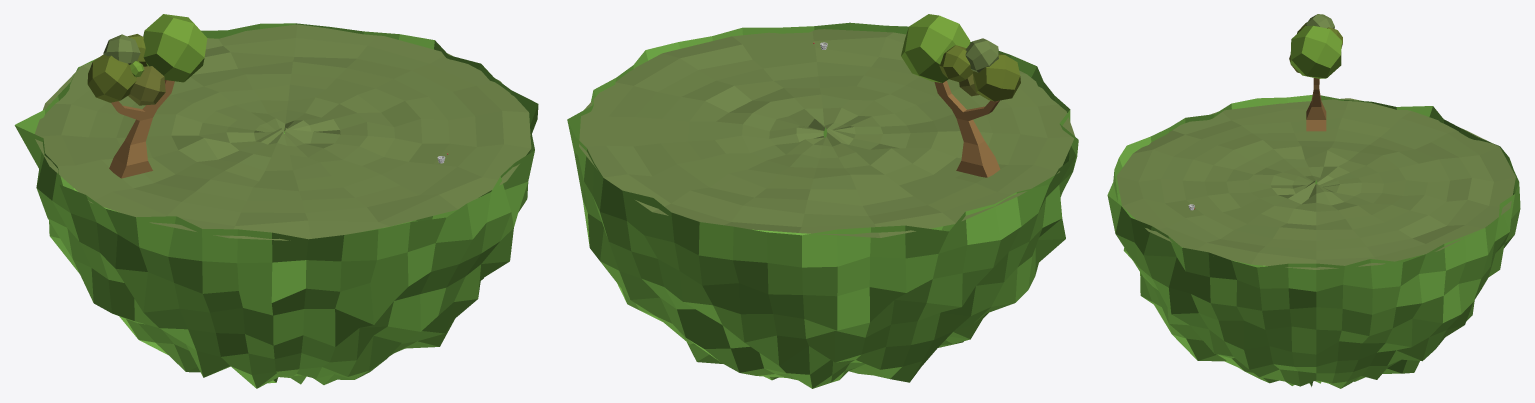
Rendered from MeshLowPolyGround.fbx.
3 renders of one model, left to right at view 1: azimuth 30°, elevation 25°; view 2: azimuth 150°, elevation 25°; view 3: azimuth 270°, elevation 25°, orthographic. The views are drawn at different scales.
Visible parts, largest first — view 1: SueloVerde, Tierra, Sphere_1, Cube, Sphere, Sphere_2, Sphere_3; view 2: SueloVerde, Tierra, Sphere_1, Cube, Sphere, Sphere_4, Sphere_3; view 3: SueloVerde, Tierra, Sphere_1, Cube.
Part boxes in pixels (<box>): SueloVerde: <box>35,24,531,240</box>; Tierra: <box>14,23,538,388</box>; Sphere_1: <box>143,14,207,82</box>; Cube: <box>109,80,174,178</box>; Sphere: <box>87,54,136,102</box>; Sphere_2: <box>128,66,165,105</box>; Sphere_3: <box>103,34,140,64</box>; SueloVerde: <box>579,29,1074,237</box>; Tierra: <box>567,22,1078,388</box>; Sphere_1: <box>901,14,970,82</box>; Cube: <box>934,80,1000,177</box>; Sphere: <box>972,53,1020,101</box>; Sphere_4: <box>939,45,972,82</box>; Sphere_3: <box>965,38,998,72</box>; SueloVerde: <box>1116,98,1515,269</box>; Tierra: <box>1107,95,1520,388</box>; Sphere_1: <box>1290,25,1341,78</box>; Cube: <box>1306,78,1326,131</box>.
Bounding box in the file's own units: 2069 × 1701 × 2089.
